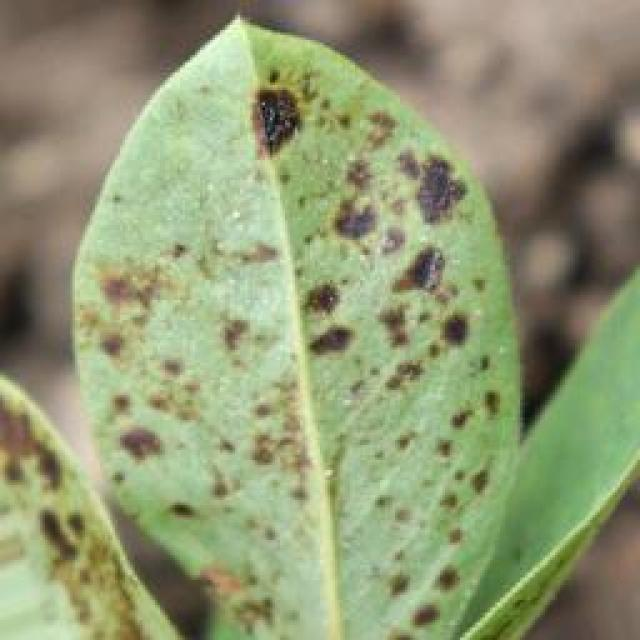Whitefly: (0, 40, 499, 640)
